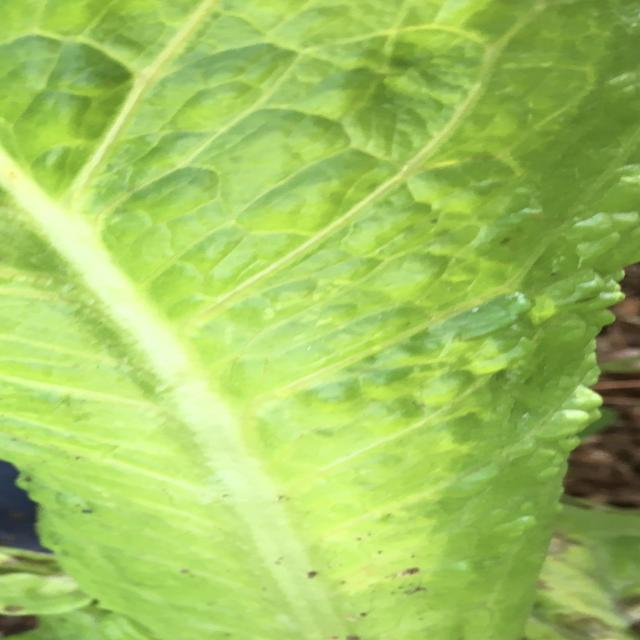Healthy Lettuce: (5, 2, 635, 636)
